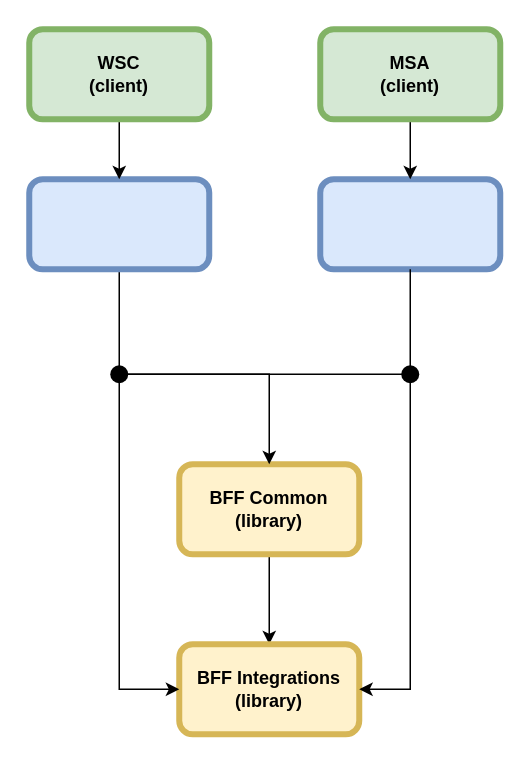
Image size: 528x762. Some labels were removed from this diagram. The box of each missing label's shape, as (x1, y1, x2, y2) in pixels:
BFF MSA (server): (316, 176, 502, 272)
BFF WSC (server): (26, 176, 212, 272)
